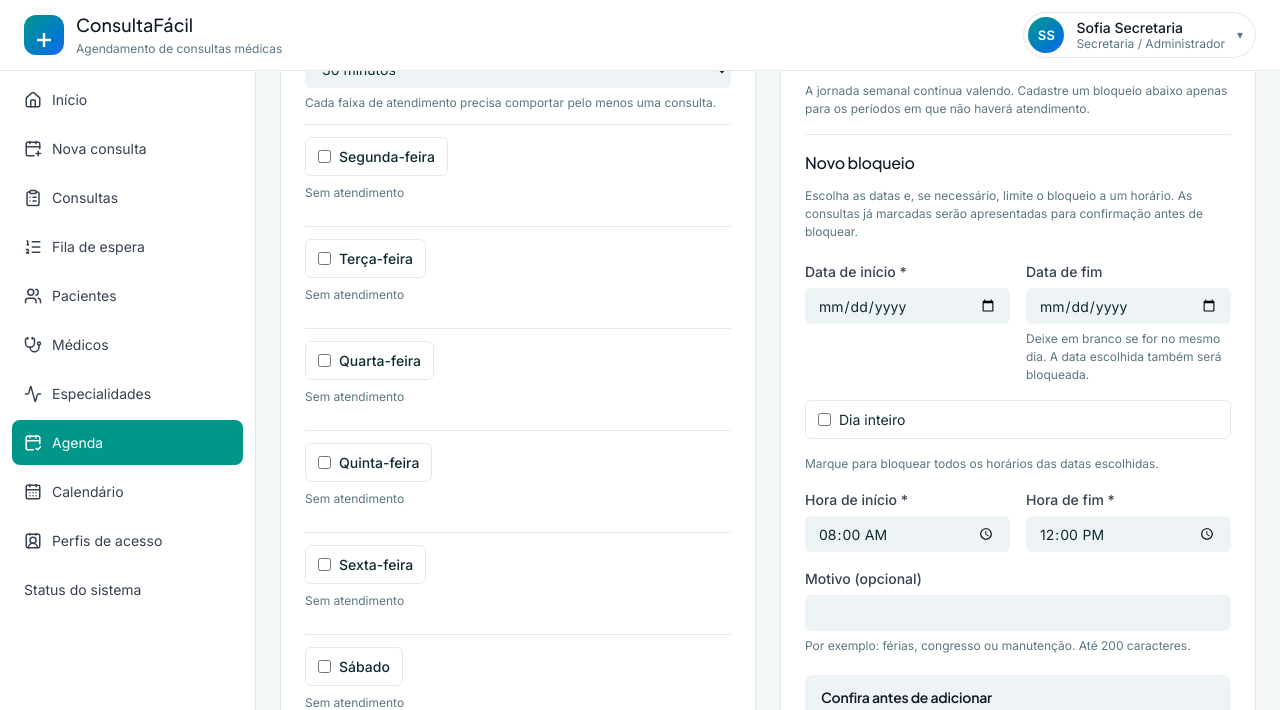
Test case: tela de agenda › orienta a configuração sem jornada e mostra o resumo antes de salvar
(page scrolled)
Click the checkbox labelled "Quarta-feira": (324, 360) x1=318 y1=354 x2=331 y2=366
(page scrolled)
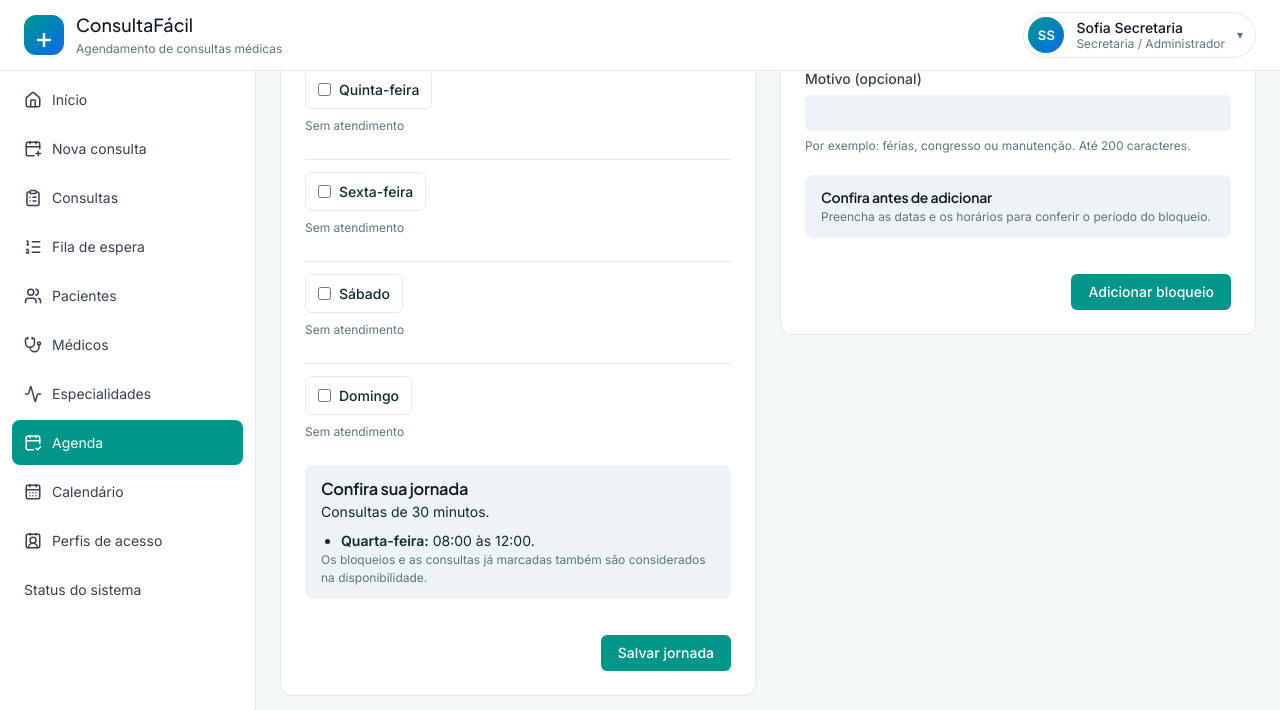
Expected: the element named "Resumo da jornada" shows "Consultas de 30 minutos", x1=305 y1=464 x2=731 y2=599
Expected: the element named "Resumo da jornada" shows "Quarta-feira: 08:00 às 12:00", x1=305 y1=464 x2=731 y2=599
